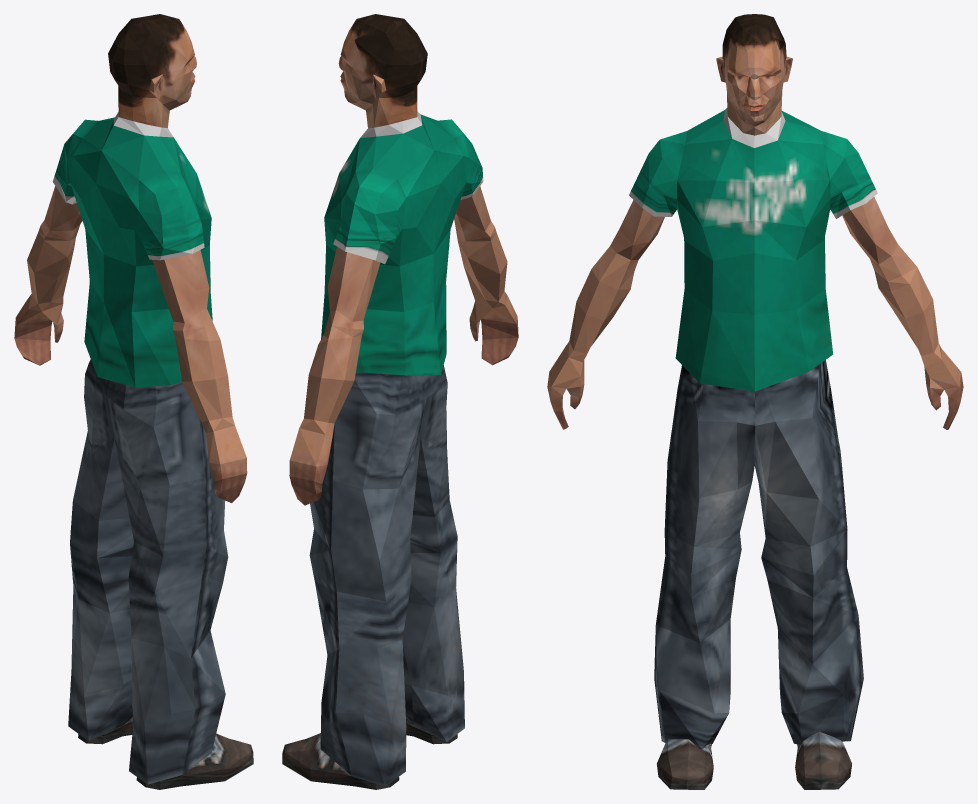
Rendered from swmyst.obj.
The picture shows the model from 3 angles, left to right: view 1: azimuth 30°, elevation 25°; view 2: azimuth 150°, elevation 25°; view 3: azimuth 270°, elevation 25°; orthographic projection.
Parts seen in each view (by area): view 1: _Pelvis; view 2: _Pelvis; view 3: _Pelvis.
Part boxes in pixels (bbox=[...]): _Pelvis: bbox=[14, 14, 253, 789]; _Pelvis: bbox=[282, 14, 518, 789]; _Pelvis: bbox=[547, 14, 963, 789].
Bounding box in the file's own units: 0.3276 × 1.84 × 0.9331.
1 material, 1 textured.
